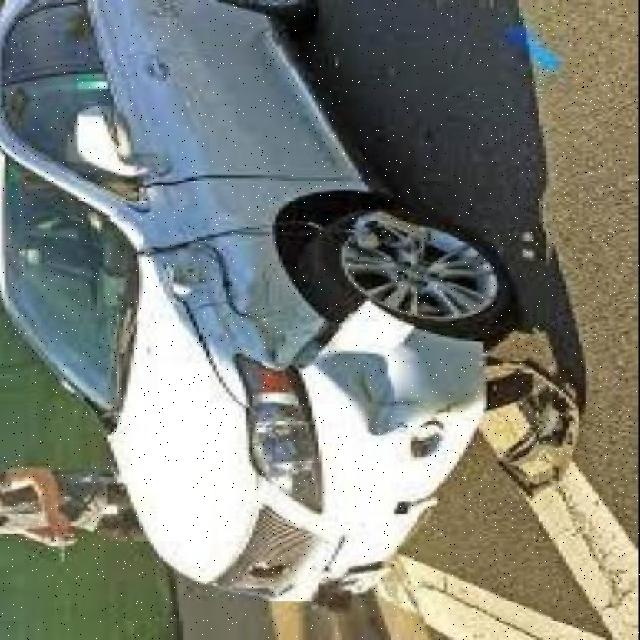damage: (136, 192, 506, 450)
